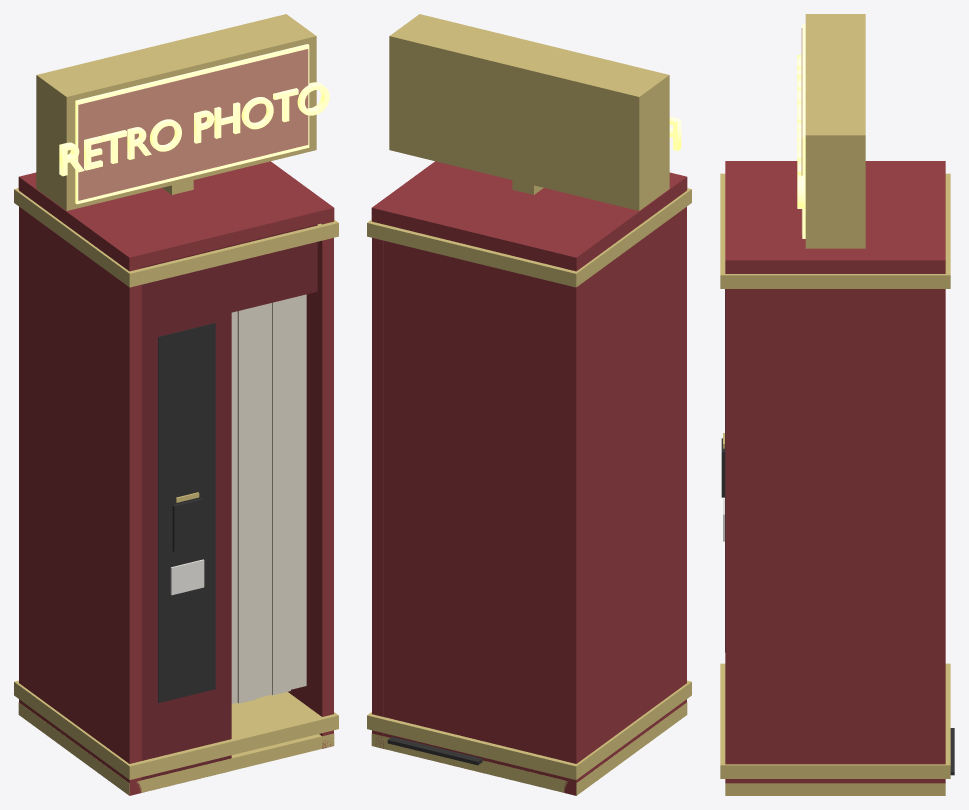
3 views of the same model, side by side, from view 1: azimuth 30°, elevation 25°; view 2: azimuth 150°, elevation 25°; view 3: azimuth 270°, elevation 25° (orthographic).
Visible parts, largest first — view 1: wall_L, front_L, m_frame, sign_panel, roof, sign_body, wall_R, trim_B, curtain_1, curtain_3, curtain_4, curtain_2 (+9 smaller); view 2: wall_B, wall_L, sign_body, roof, wall_R, trim_T, trim_B, base, floor_base; view 3: wall_R, roof, sign_body, trim_T, trim_B, base, Testo, sg_top.
Part boxes in pixels (x1,y1,x2,y2): wall_L: (19, 189, 141, 795); front_L: (141, 245, 231, 779); m_frame: (158, 323, 215, 702); sign_panel: (78, 49, 308, 200); roof: (18, 161, 334, 269); sign_body: (36, 14, 316, 210); wall_R: (288, 208, 333, 748); trim_B: (14, 680, 338, 779); curtain_1: (237, 306, 256, 703); curtain_3: (272, 298, 290, 695); curtain_4: (291, 294, 306, 689); curtain_2: (257, 303, 271, 698); wall_B: (384, 223, 564, 779); wall_L: (564, 189, 686, 795); sign_body: (389, 14, 669, 210); roof: (371, 161, 687, 270); wall_R: (372, 208, 383, 748); trim_T: (367, 188, 691, 287); trim_B: (367, 680, 691, 779); base: (371, 702, 687, 795); floor_base: (387, 736, 482, 765); wall_R: (725, 273, 945, 783); roof: (725, 161, 945, 272); sign_body: (805, 14, 865, 248); trim_T: (720, 173, 950, 288); trim_B: (720, 663, 950, 778); base: (725, 783, 945, 795); Testo: (797, 55, 804, 208); sg_top: (802, 24, 805, 135).
Bounding box in the file's own units: 1.23 × 2.96 × 0.935.
